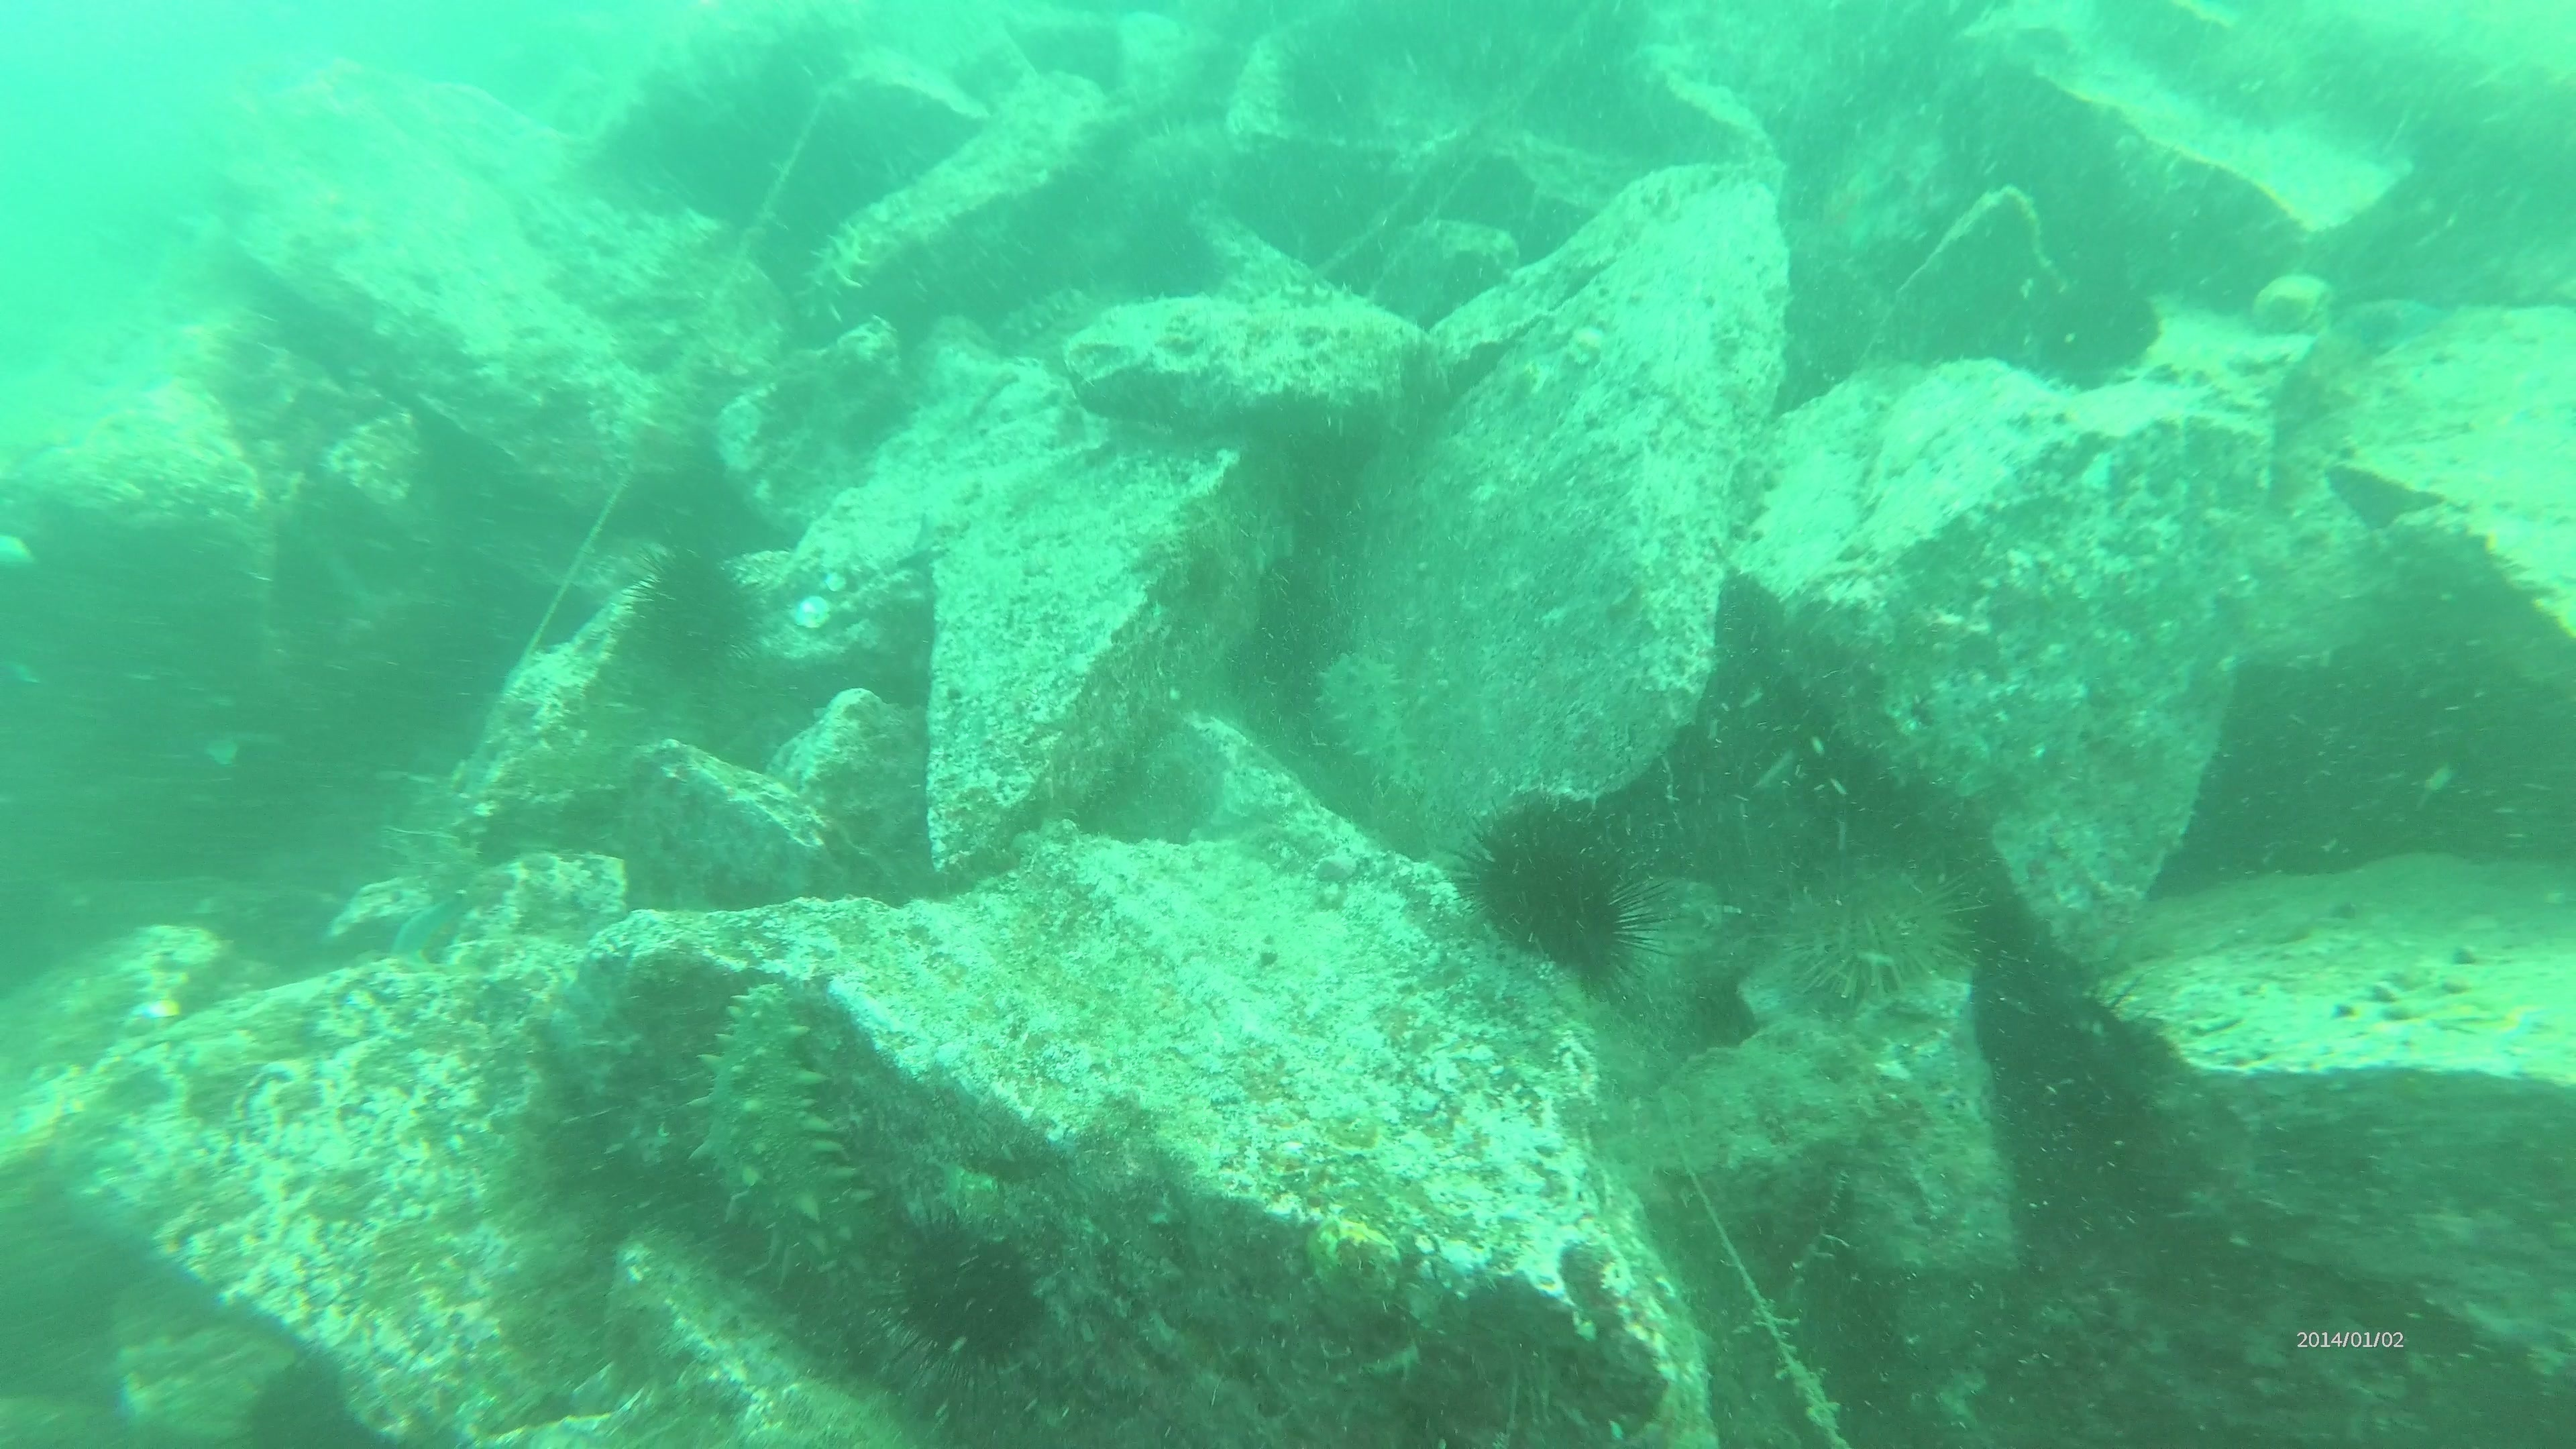echinus: (1453, 800, 1660, 991), (1757, 847, 1983, 1019), (879, 1205, 1049, 1371), (621, 541, 766, 686), (2019, 262, 2167, 395)
holothurian: (679, 970, 867, 1281), (1318, 649, 1430, 821), (784, 195, 906, 347), (989, 285, 1095, 347), (1240, 272, 1376, 317)
starfish: (1812, 152, 1909, 258), (377, 885, 478, 970), (2334, 297, 2445, 352)
